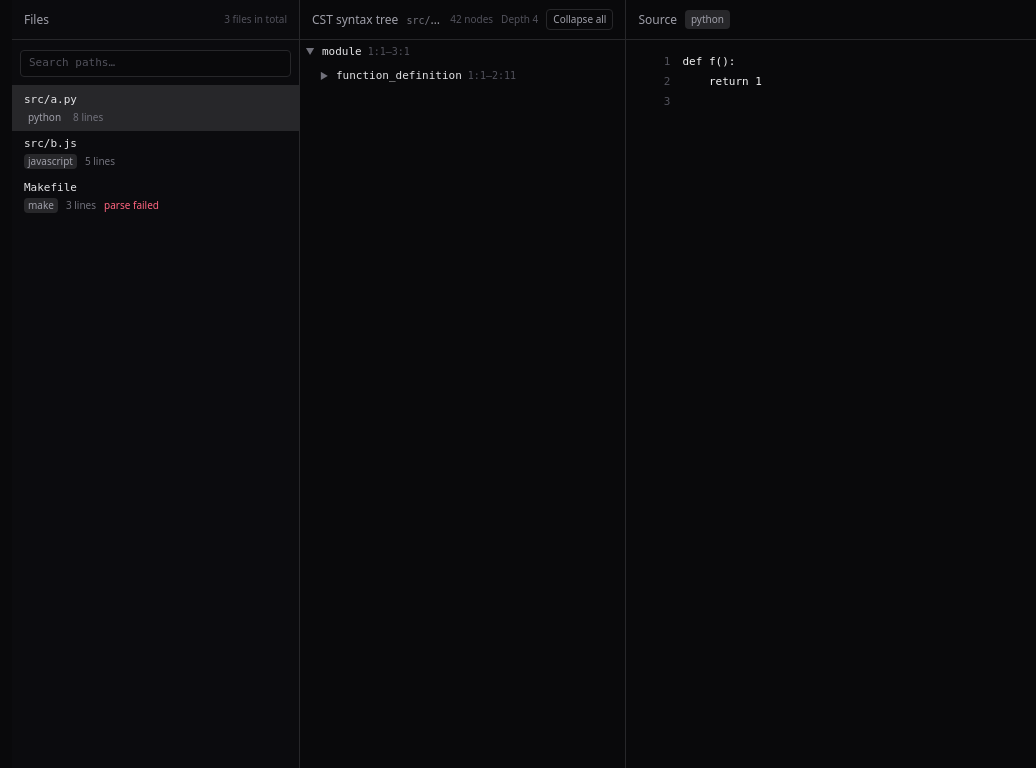
it: CstView 语法树 › shiki 失败时回退纯文本，仍保留范围标记
The image size is (1036, 768).
Expected: the element with test id "cst-source-plain" shows "def f():", [682,55,735,68]
Step 1. Click the button with test id "cst-node-toggle" showing "▶" → [324, 76], box [318,64,330,88]
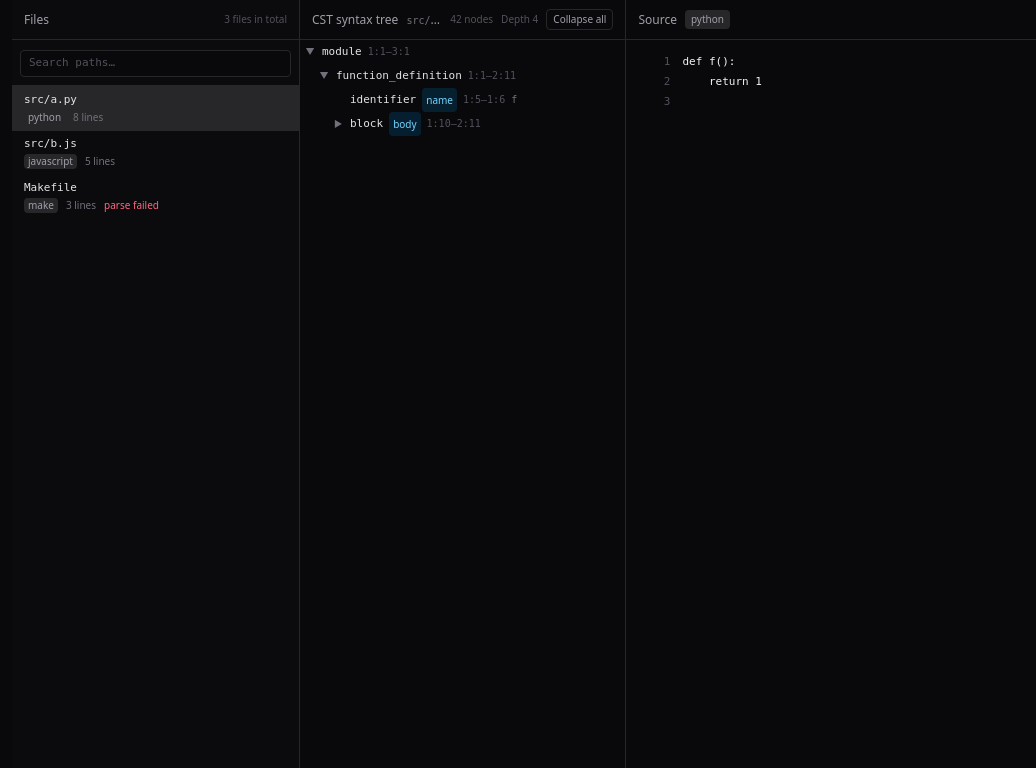
Step 2. Click the list item "identifier name 1:5–1:6 f" → [434, 100], box [350,88,517,112]
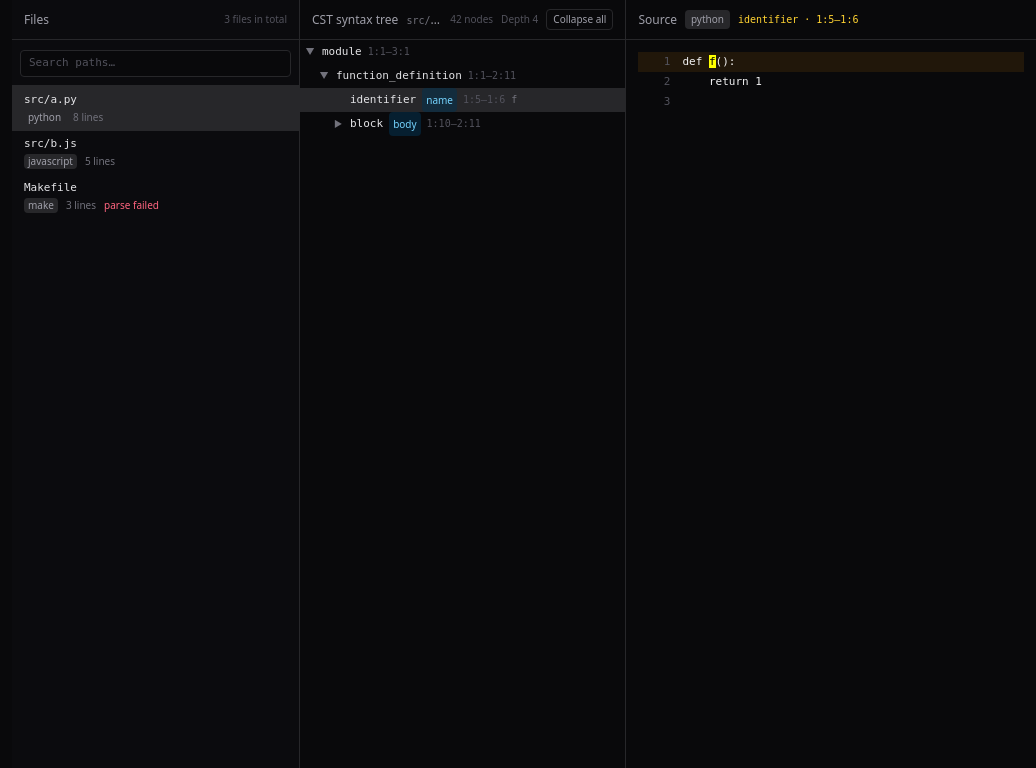
Expected: the element with test id "cst-source-plain" shows "return 1", [682,75,762,88]
Now the text with class "cst-source-mark" is shown, box [709,55,716,68]
